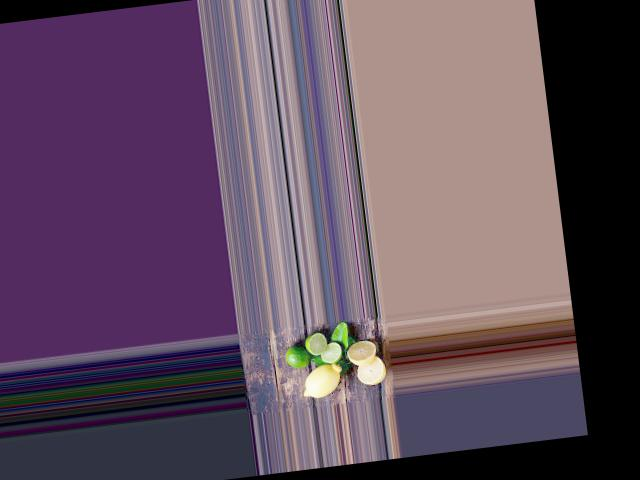lemon: (298, 359, 346, 401)
